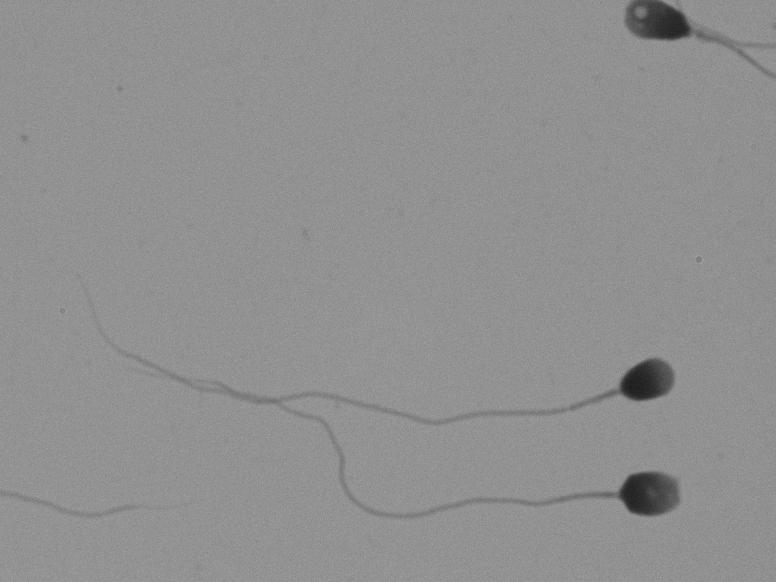Abnormal: (343, 441, 697, 563), (570, 1, 753, 111)
Normal: (22, 276, 717, 437)
